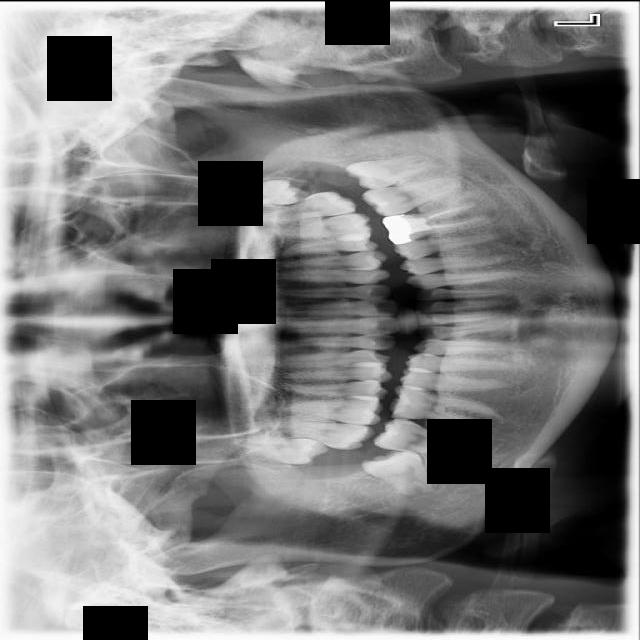3M ESPE Implant: (229, 435, 330, 465)
52: (380, 212, 418, 246)
73: (404, 194, 491, 241)
BioHorizons Implant: (236, 187, 359, 227)
BioLife Implant: (213, 176, 305, 211)
Biomet 3i Implant: (343, 151, 437, 192)
Blue Sky Bio Implant: (361, 173, 465, 220)
Caries: (263, 417, 375, 452)
Implant: (372, 413, 476, 463)
Keystone Dental Implant: (360, 439, 438, 509)
